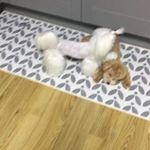puppy: (92, 58, 134, 91)
